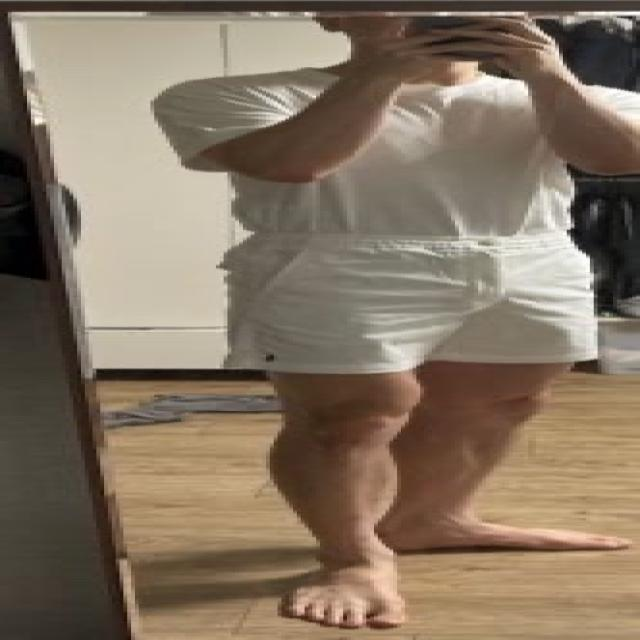shortpants: (223, 231, 582, 373)
shortsleeve: (150, 64, 640, 234)
